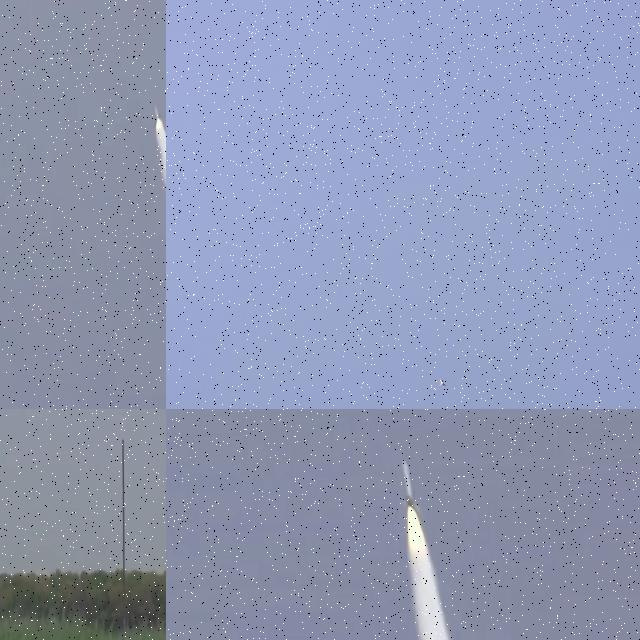Rocket: (402, 458, 420, 512), (154, 106, 161, 123), (438, 379, 447, 386)
